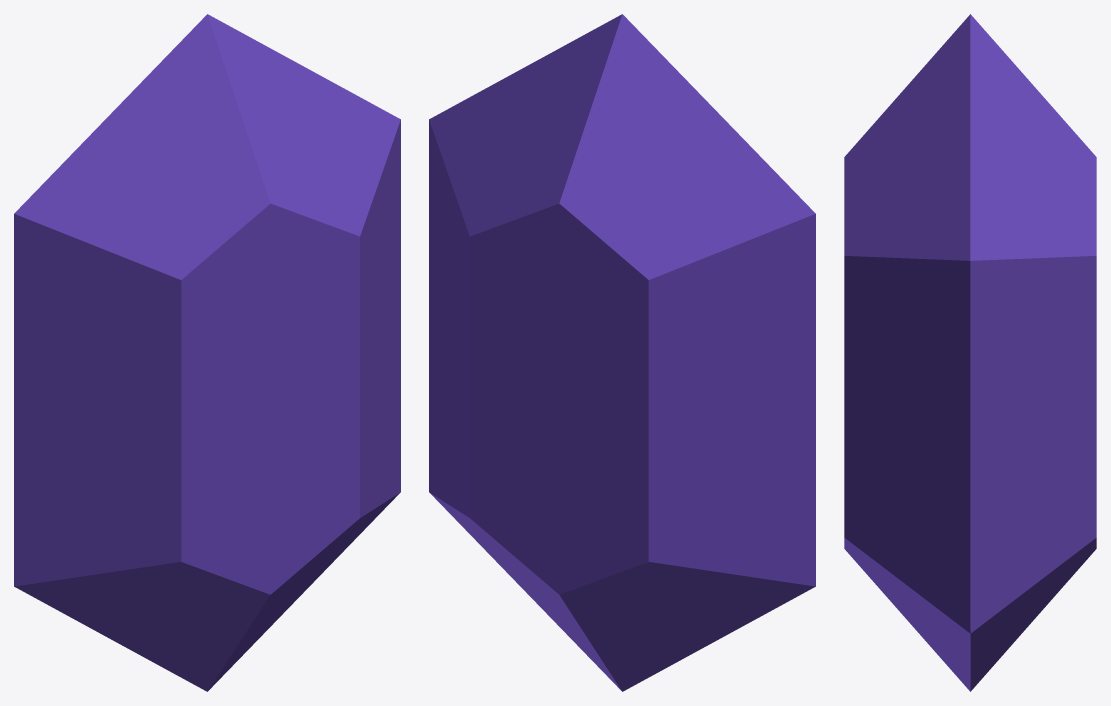
Rendered from Gem_2-1.fbx.
3 views of the same model, side by side, from view 1: azimuth 30°, elevation 25°; view 2: azimuth 150°, elevation 25°; view 3: azimuth 270°, elevation 25° (orthographic).
Visible parts, largest first — view 1: Gem_2-1; view 2: Gem_2-1; view 3: Gem_2-1.
Boxes of the visible parts, box(x1,y1,x2,y2) form: Gem_2-1: box(14, 14, 400, 691); Gem_2-1: box(429, 14, 815, 691); Gem_2-1: box(844, 14, 1096, 691).
Bounding box in the file's own units: 45.15 × 75.64 × 25.54.
